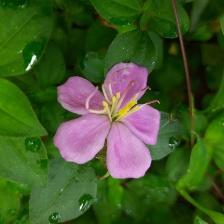malabar melastome: (52, 61, 167, 182)
